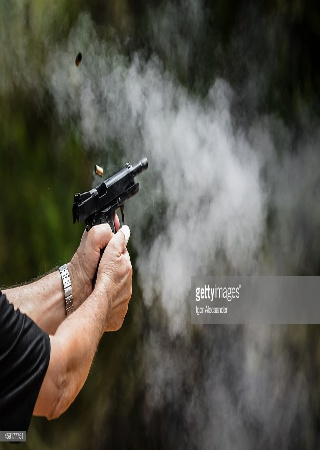handgun: (71, 158, 151, 243)
